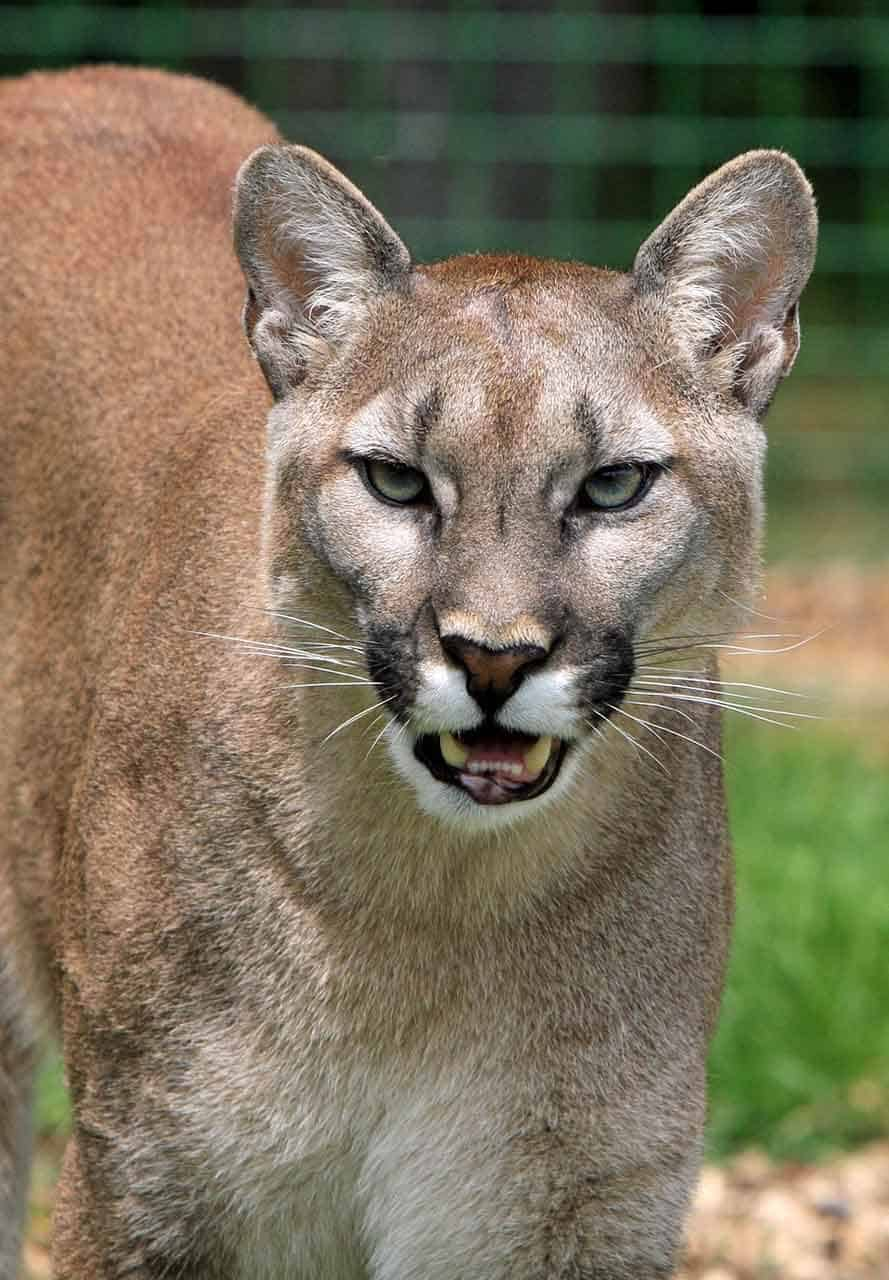OncaParda: (8, 54, 824, 1258)
